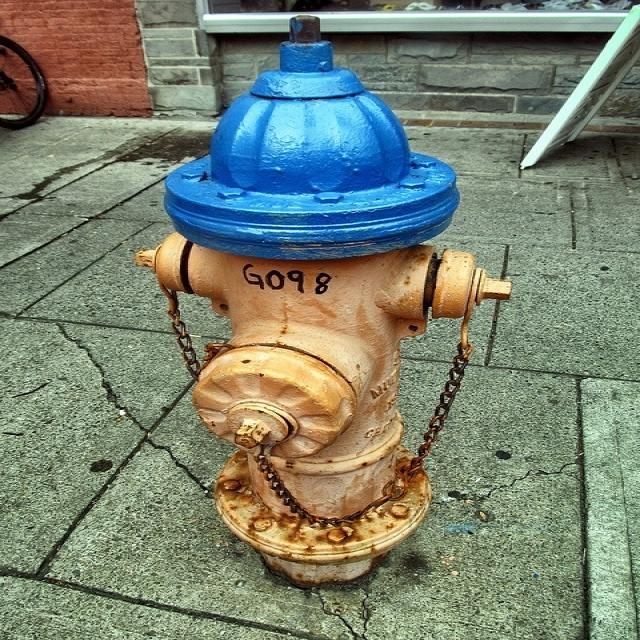fire_hydrant: (149, 0, 495, 636)
